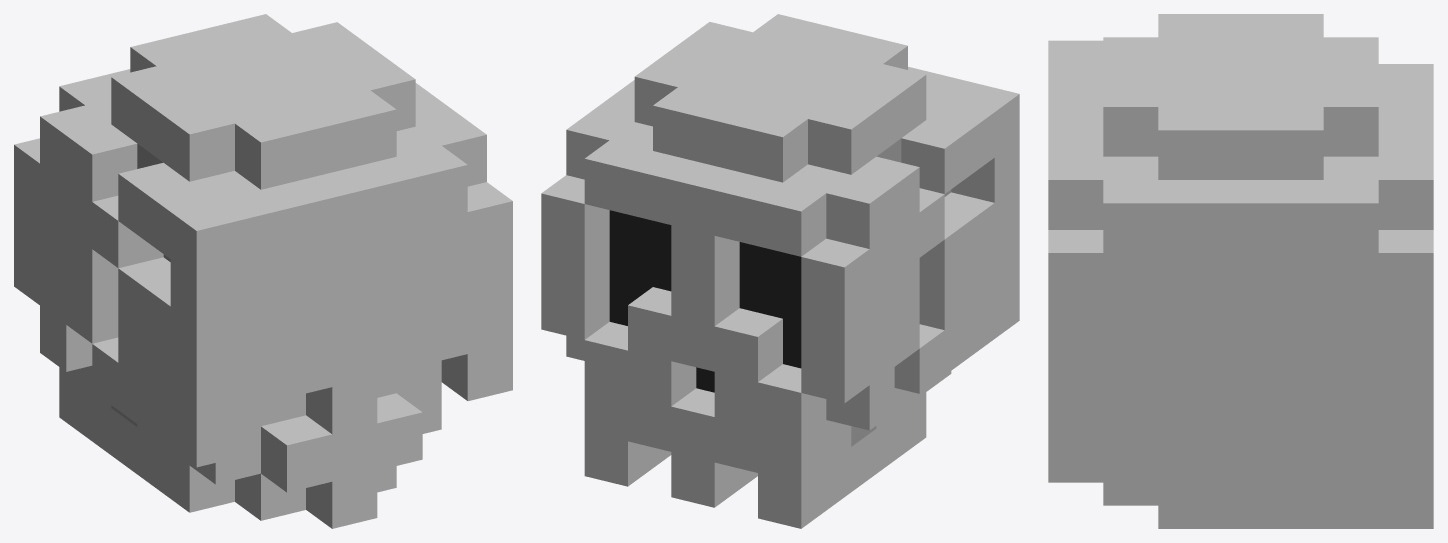
Rendered from Bones-3.obj.
3 renders of one model, left to right at view 1: azimuth 30°, elevation 25°; view 2: azimuth 150°, elevation 25°; view 3: azimuth 270°, elevation 25°, orthographic. The views are drawn at different scales.
Size of the model in its own units: 0.7 by 0.8 by 0.7.
1 material, 1 textured.
